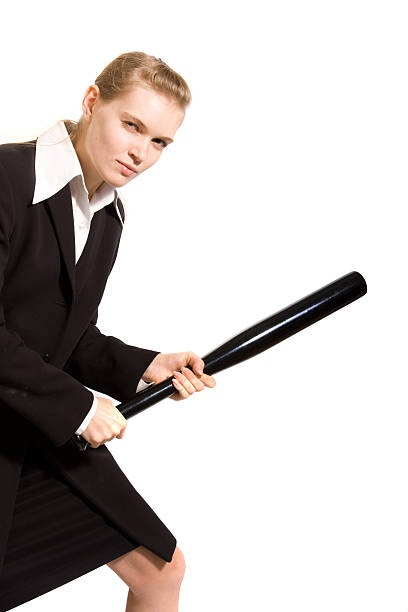bita: (90, 276, 368, 436)
